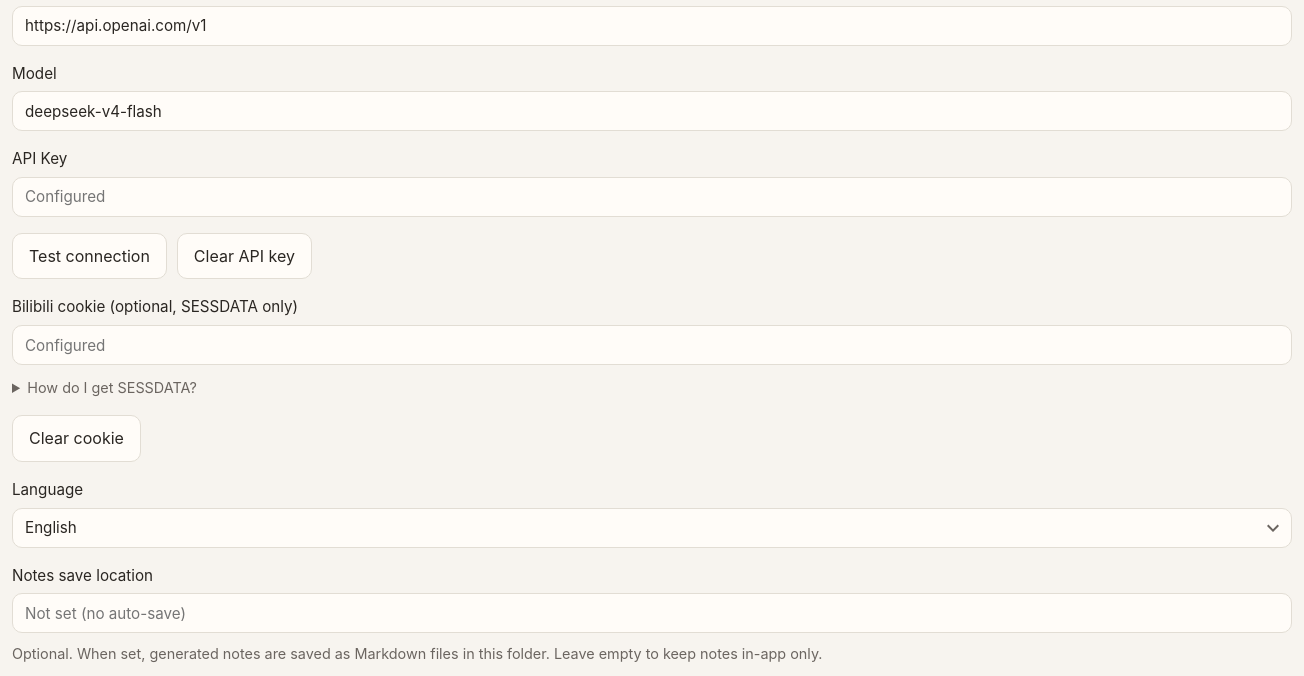
Test: ConfigForm › clears cookie only after confirmation
(page scrolled)
Click the button "Clear cookie": [76, 439] box [12,415,141,462]
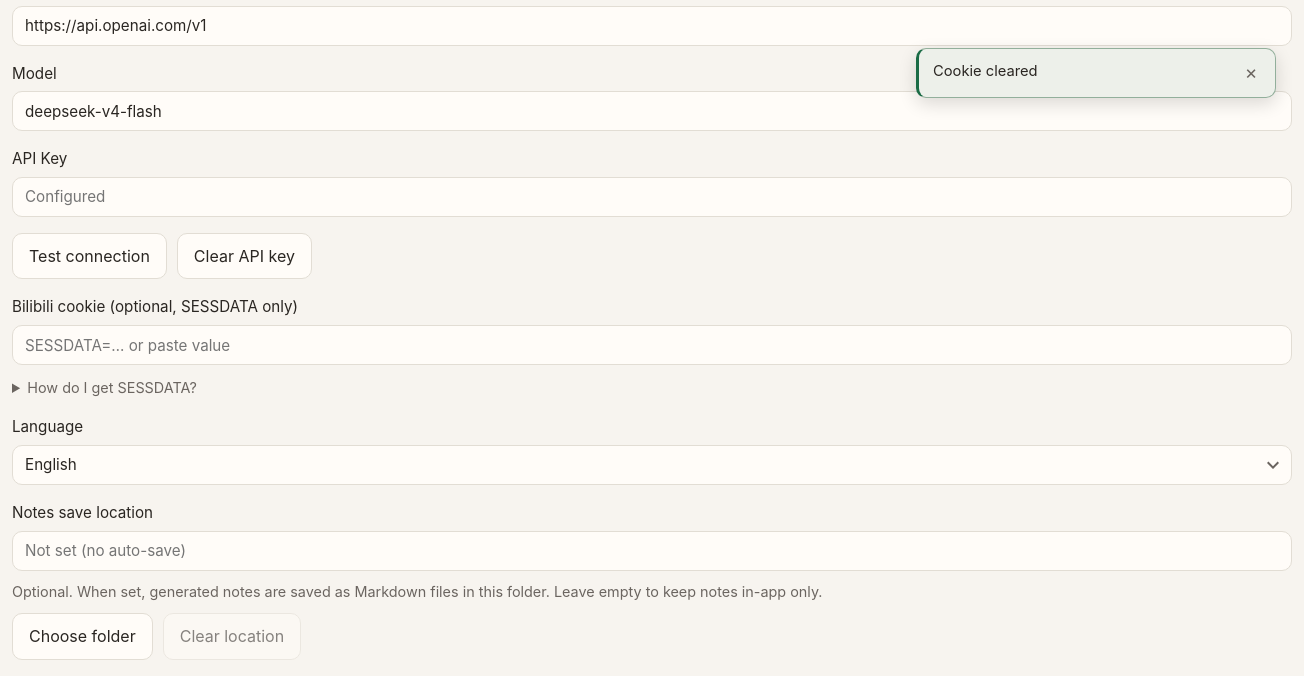
Check: the text "Cookie cleared" is shown, box [933,62,1038,80]
